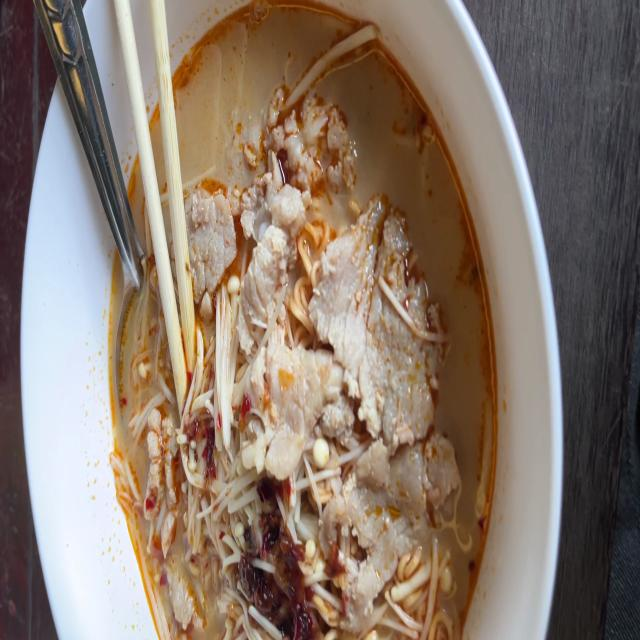noodle: (102, 0, 500, 640)
